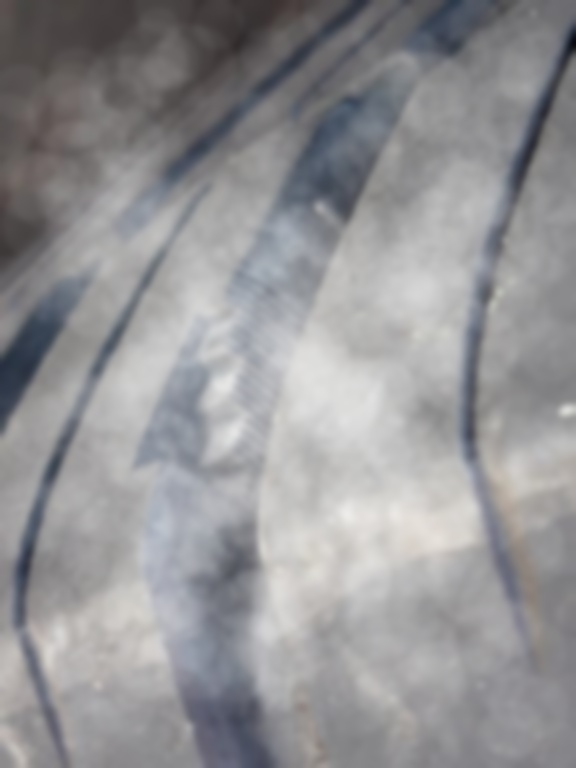temoin:90: (115, 257, 320, 530)
